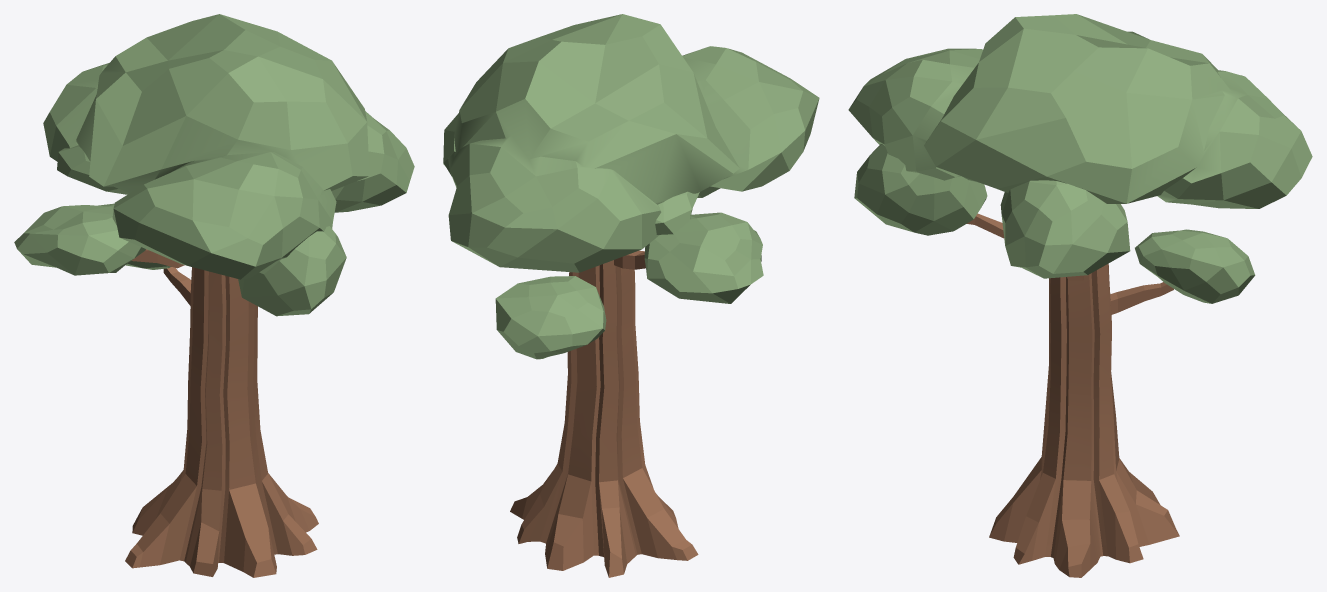
The model's file is buttress.fbx.
The picture shows the model from 3 angles, left to right: view 1: azimuth 30°, elevation 25°; view 2: azimuth 150°, elevation 25°; view 3: azimuth 270°, elevation 25°; orthographic projection.
Visible parts, largest first — view 1: pPlatonic7, pCube1, pPlatonic5, pPlatonic3, pPlatonic4, pPlatonic8, pCube4; view 2: pPlatonic7, pCube1, pPlatonic5 (×2), pPlatonic8; view 3: pPlatonic7, pCube1, pPlatonic4, pPlatonic3, pPlatonic5, pCube4.
Boxes of the visible parts, x1=… form: pPlatonic7: x1=43, y1=14, x2=369, y2=279; pCube1: x1=125, y1=267, x2=318, y2=577; pPlatonic5: x1=14, y1=203, x2=145, y2=275; pPlatonic3: x1=238, y1=226, x2=346, y2=316; pPlatonic4: x1=331, y1=111, x2=414, y2=212; pPlatonic8: x1=57, y1=145, x2=129, y2=194; pCube4: x1=163, y1=267, x2=191, y2=305; pPlatonic7: x1=448, y1=14, x2=819, y2=272; pCube1: x1=510, y1=260, x2=698, y2=577; pPlatonic5 (×2): x1=495, y1=212, x2=763, y2=359; pPlatonic8: x1=655, y1=191, x2=699, y2=234; pPlatonic7: x1=848, y1=14, x2=1312, y2=208; pCube1: x1=989, y1=263, x2=1179, y2=577; pPlatonic4: x1=1000, y1=180, x2=1130, y2=278; pPlatonic3: x1=854, y1=144, x2=987, y2=235; pPlatonic5: x1=1135, y1=229, x2=1255, y2=303; pCube4: x1=1110, y1=282, x2=1173, y2=314.
Size of the model in its own units: 73.74 by 101 by 83.01.
